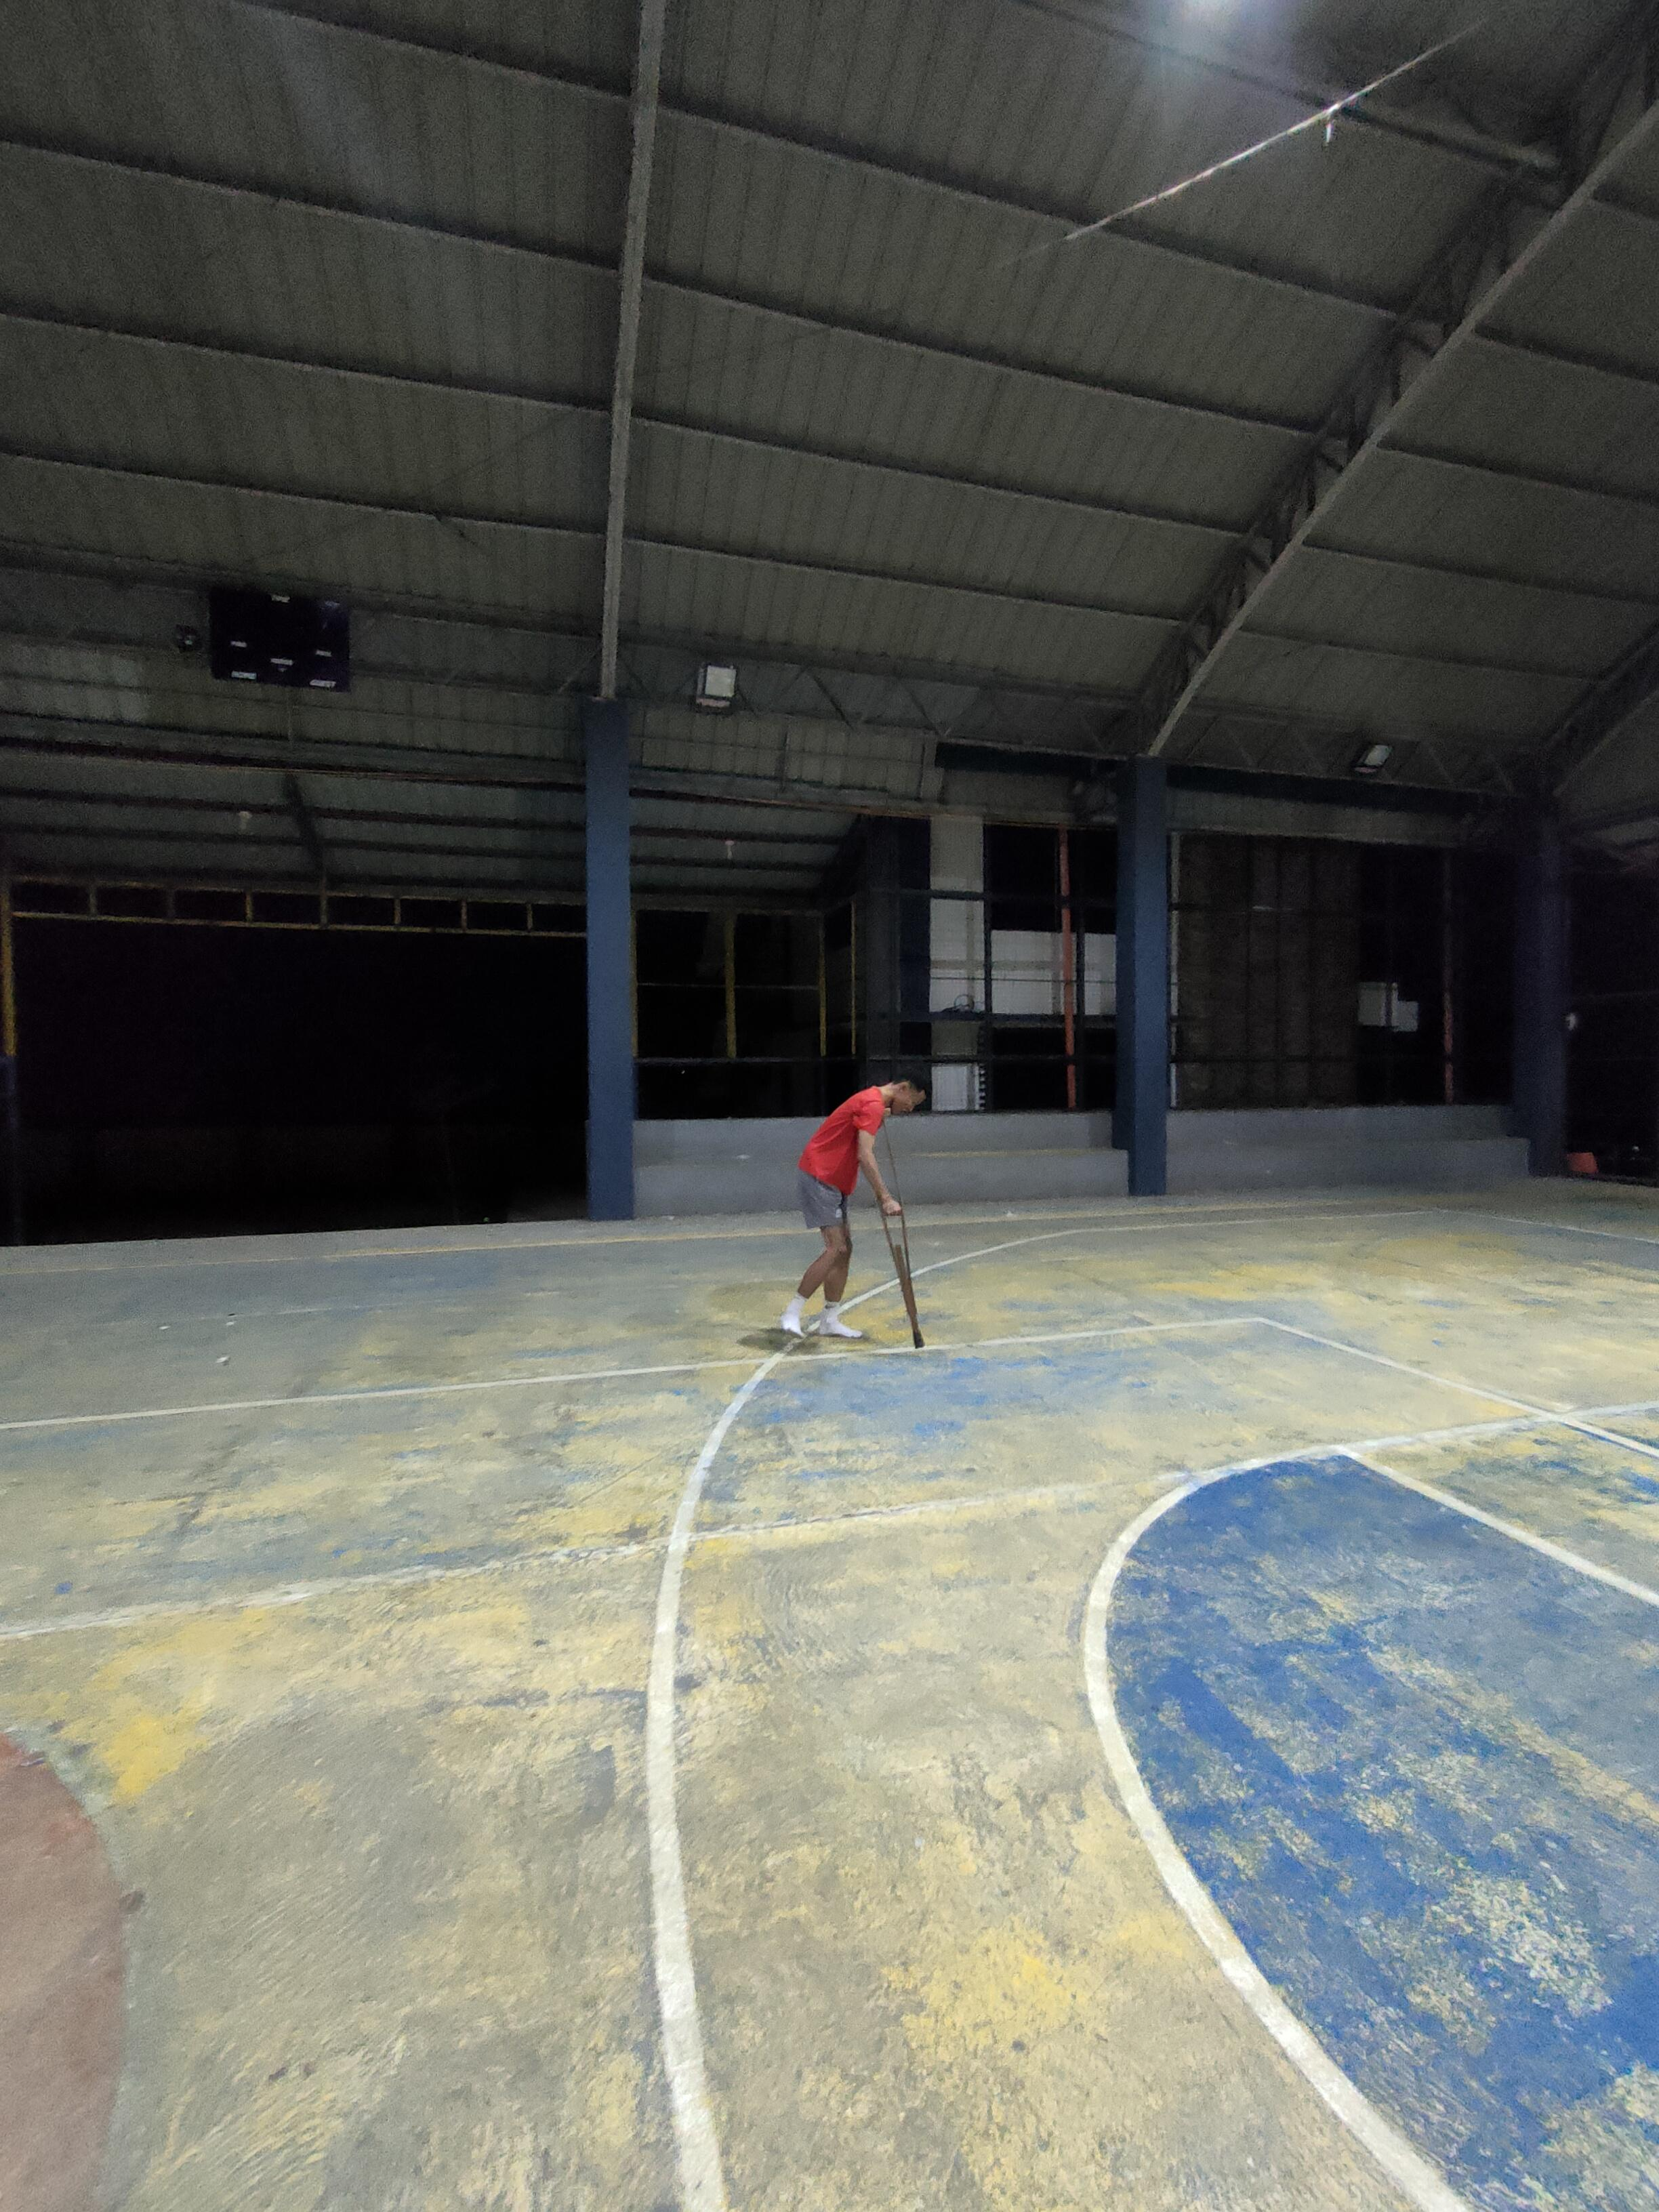crutches: (774, 1038, 945, 1352)
